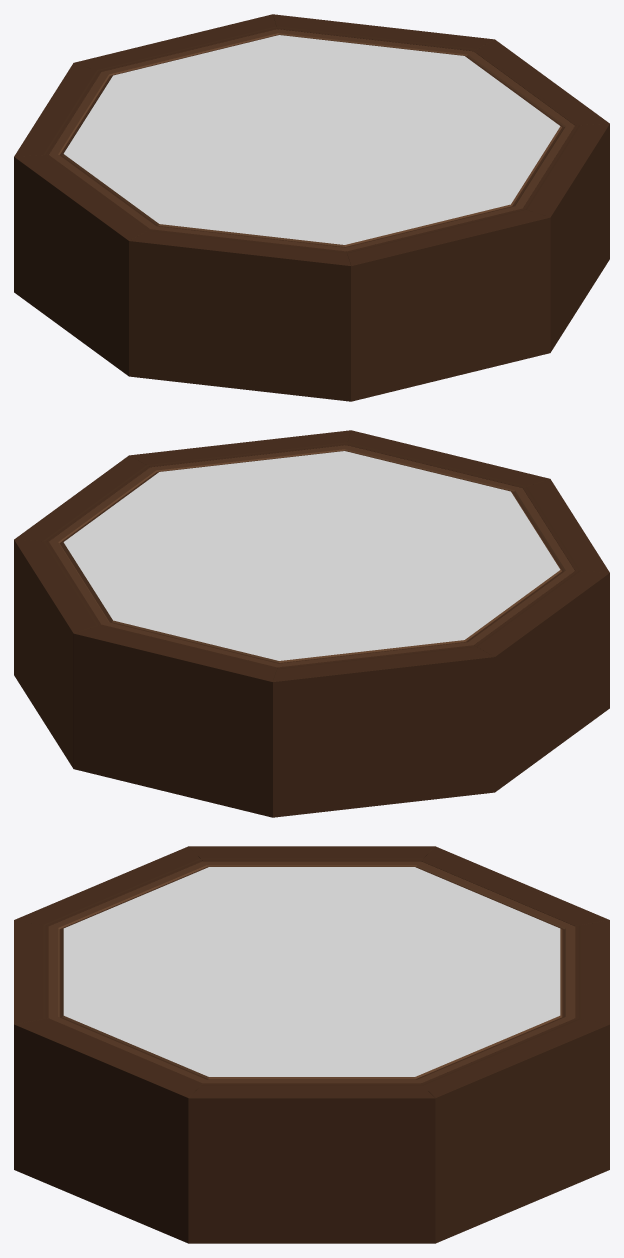
File: OctagonalReadingRoom_v1.fbx
3 renders of one model, top to bottom at view 1: azimuth 30°, elevation 25°; view 2: azimuth 150°, elevation 25°; view 3: azimuth 270°, elevation 25°, orthographic. The views are drawn at different scales.
Visible parts, largest first — view 1: Ceiling, Bookcase_06, Bookcase_05, Bookcase_07, Bookcase_04, Bookcase_02, Bookcase_01, Bookcase_03, Bookcase_08; view 2: Ceiling, Bookcase_08, Bookcase_01, Bookcase_07, Bookcase_02, Bookcase_04, Bookcase_05, Bookcase_03, Bookcase_06; view 3: Ceiling, Bookcase_03, Bookcase_02, Bookcase_04, Bookcase_07, Bookcase_06, Bookcase_08, Bookcase_01, Bookcase_05.
Boxes of the visible parts, box(x1,y1,x2,y2) form: Ceiling: box(43, 26, 580, 253); Bookcase_06: box(129, 229, 351, 401); Bookcase_05: box(346, 208, 550, 401); Bookcase_07: box(14, 155, 149, 376); Bookcase_04: box(523, 123, 609, 352); Bookcase_02: box(273, 14, 494, 51); Bookcase_01: box(74, 14, 276, 71); Bookcase_03: box(473, 39, 609, 125); Bookcase_08: box(14, 63, 100, 156); Ceiling: box(43, 442, 580, 669); Bookcase_08: box(272, 645, 494, 817); Bookcase_01: box(73, 624, 277, 817); Bookcase_07: box(474, 571, 609, 792); Bookcase_02: box(14, 539, 100, 768); Bookcase_04: box(129, 430, 350, 467); Bookcase_05: box(347, 430, 549, 487); Bookcase_03: box(14, 455, 150, 541); Bookcase_06: box(523, 479, 609, 572); Ceiling: box(43, 858, 580, 1085); Bookcase_03: box(188, 1083, 435, 1243); Bookcase_02: box(421, 1018, 609, 1243); Bookcase_04: box(14, 1018, 202, 1243); Bookcase_07: box(189, 846, 434, 861); Bookcase_06: box(14, 846, 202, 925); Bookcase_08: box(421, 846, 609, 925); Bookcase_01: box(575, 920, 609, 1024); Bookcase_05: box(14, 920, 48, 1024).
Size of the model in its own units: 11.13 by 3.15 by 11.13.
